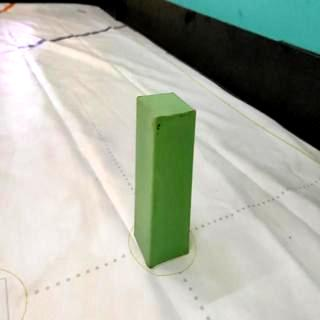greenbox: (135, 90, 198, 270)
